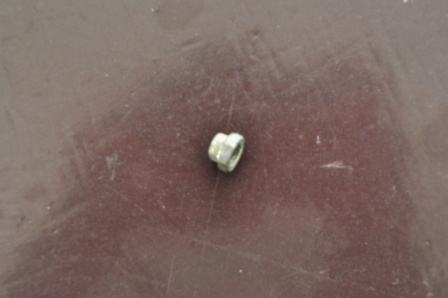BOLT: (207, 130, 247, 174)
